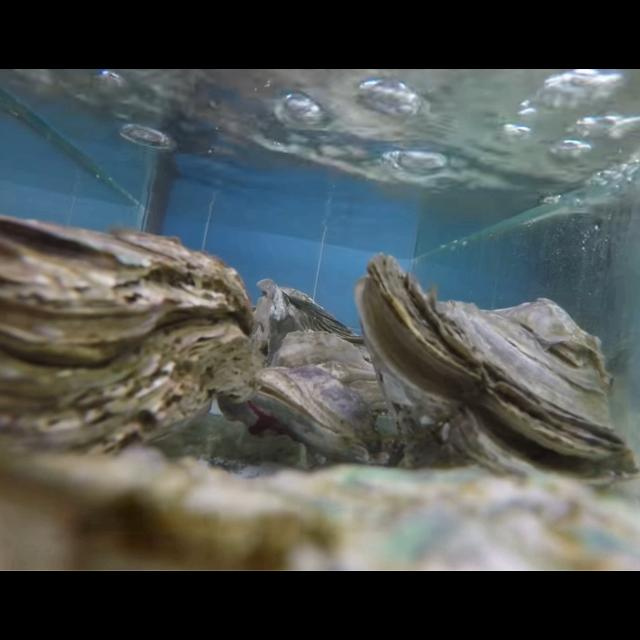Oyster-Closed: (0, 447, 640, 571), (0, 215, 254, 478), (252, 278, 368, 369)
Oyster-Open: (354, 253, 640, 494), (249, 332, 406, 468)
